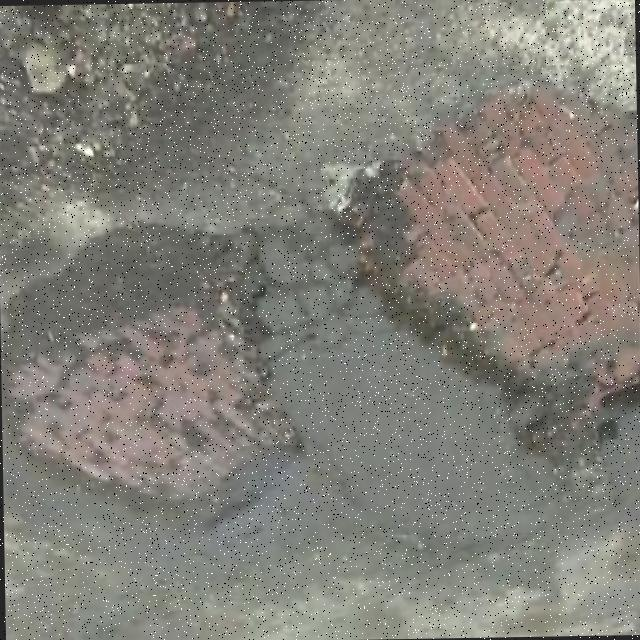Pothole: (338, 80, 640, 438), (1, 221, 294, 498)
